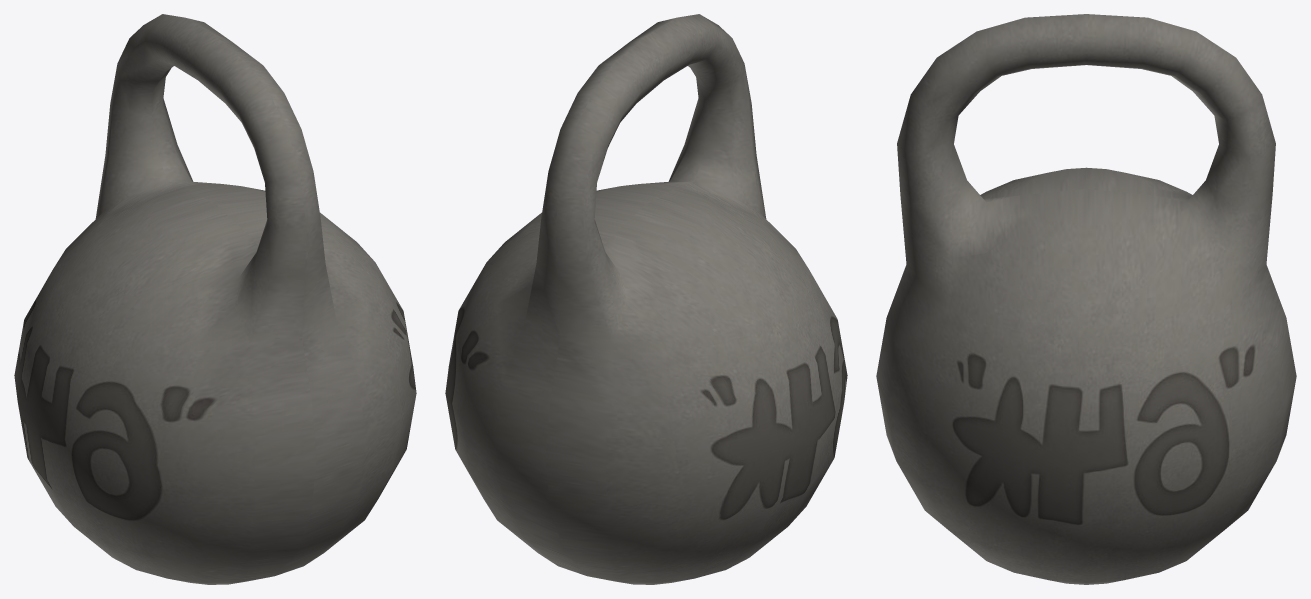
File: girya.DAE
The picture shows the model from 3 angles, left to right: view 1: azimuth 30°, elevation 25°; view 2: azimuth 150°, elevation 25°; view 3: azimuth 270°, elevation 25°; orthographic projection. The views are drawn at different scales.
Visible parts, largest first — view 1: Sphere01; view 2: Sphere01; view 3: Sphere01.
Part boxes in pixels (box(x1,y1,x2,y2)): Sphere01: box(14, 14, 416, 584); Sphere01: box(445, 14, 847, 584); Sphere01: box(876, 14, 1296, 584).
Size of the model in its own units: 164 by 164 by 234.
Materials: 1 (1 with a texture image).
